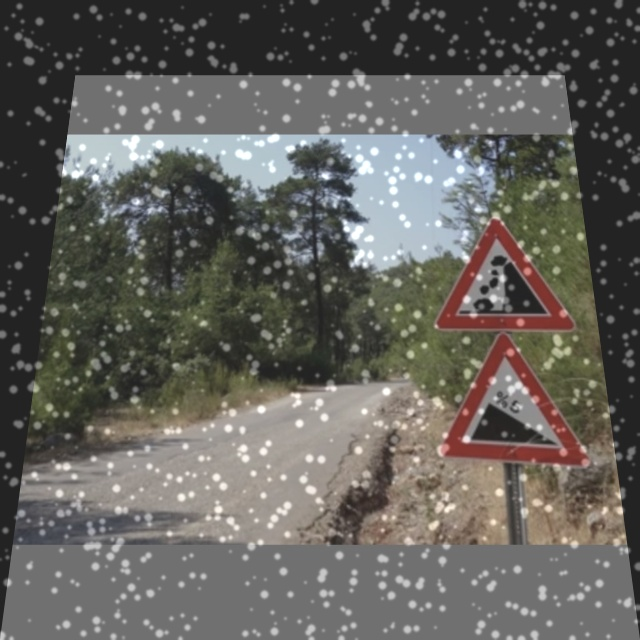Falling_Rocks: (434, 213, 571, 328)
